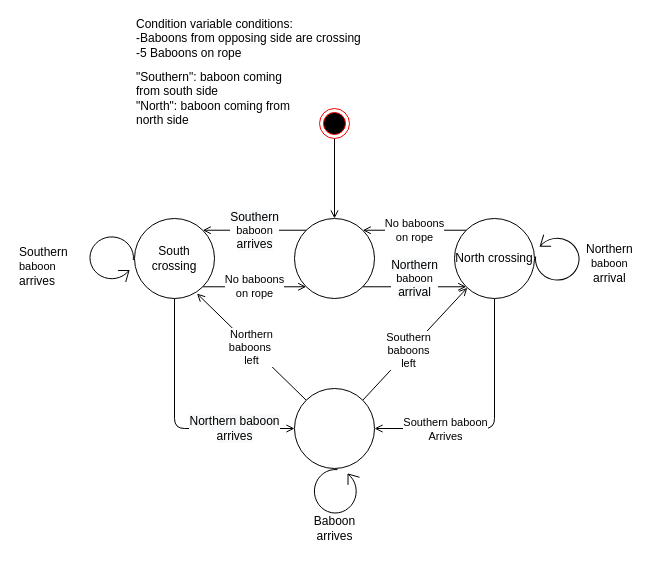
Image size: 671x561. Some labels were removed from this diagram. The centre of each missing label's shape, as x and y in pixels:
"Queued" belongs at (x=334, y=428).
"Rope empty" belongs at (x=334, y=258).
